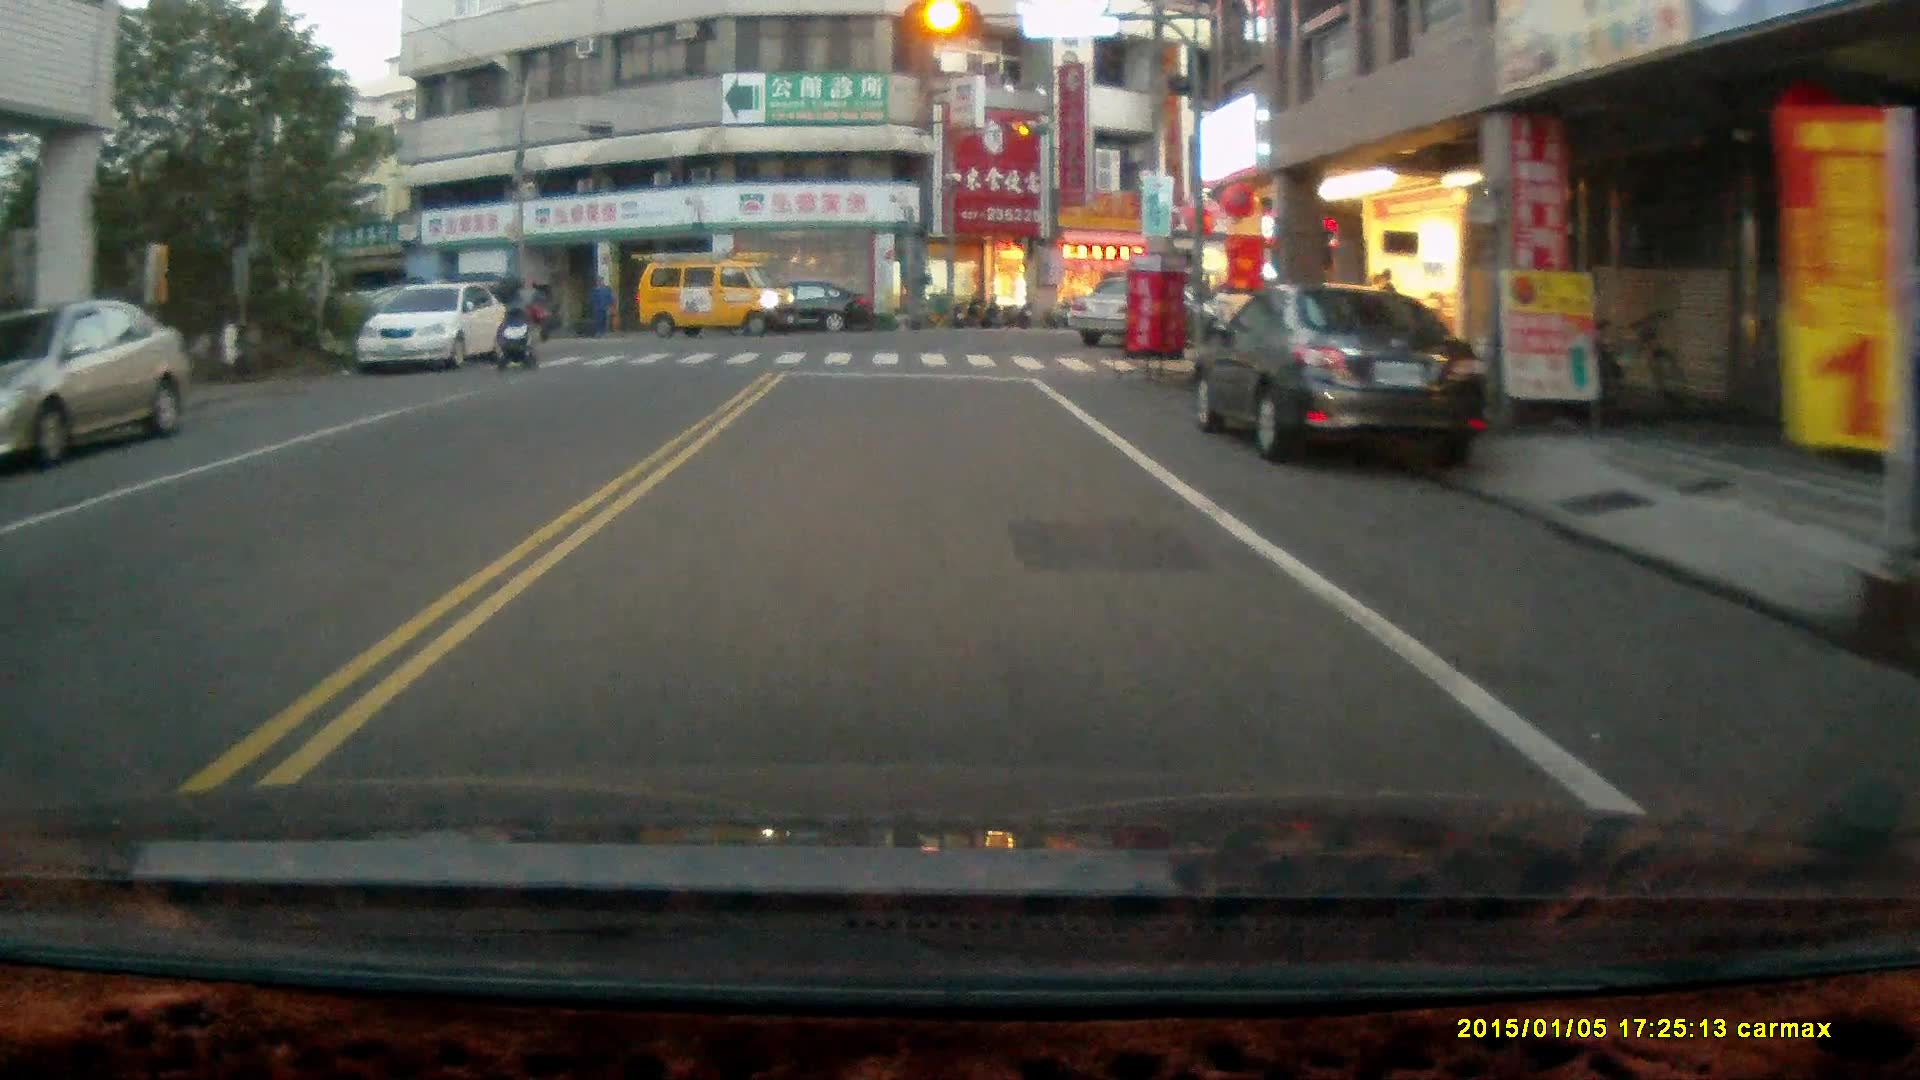pedestrian: (511, 271, 542, 352), (588, 275, 611, 335)
rider: (491, 303, 544, 373)
vehicle: (1191, 284, 1491, 469), (1, 299, 199, 474), (359, 283, 510, 377), (635, 251, 802, 335), (1061, 276, 1202, 350), (736, 281, 869, 336)
